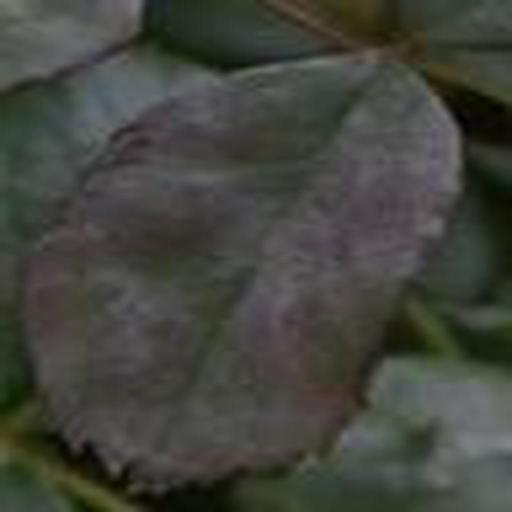powdery_mildew: (24, 54, 461, 488)
